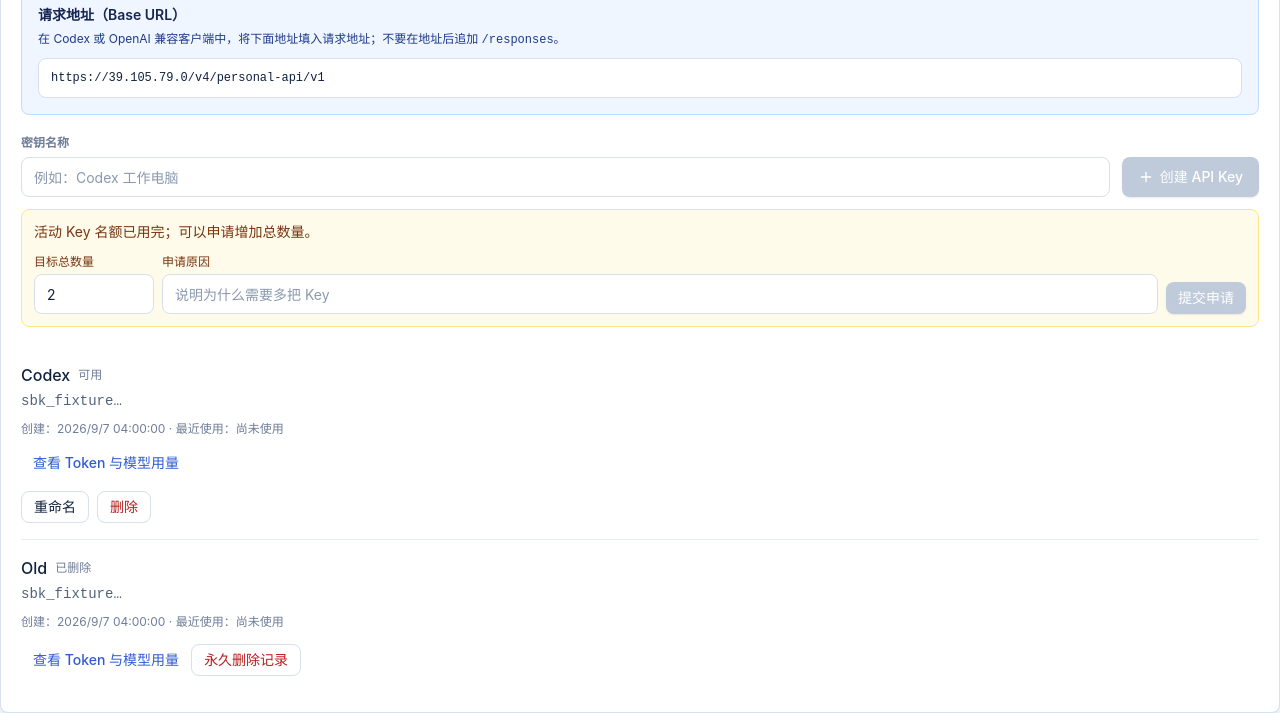
Test: PersonalApiKeys › removes only revoked list records after inline confirmation and preserves failures
(page scrolled)
Expected: the text "Old" is shown, x1=21 y1=556 x2=47 y2=580
Click the button with aria-label "永久删除 Old": (246, 660) x1=191 y1=644 x2=301 y2=676
(page scrolled)
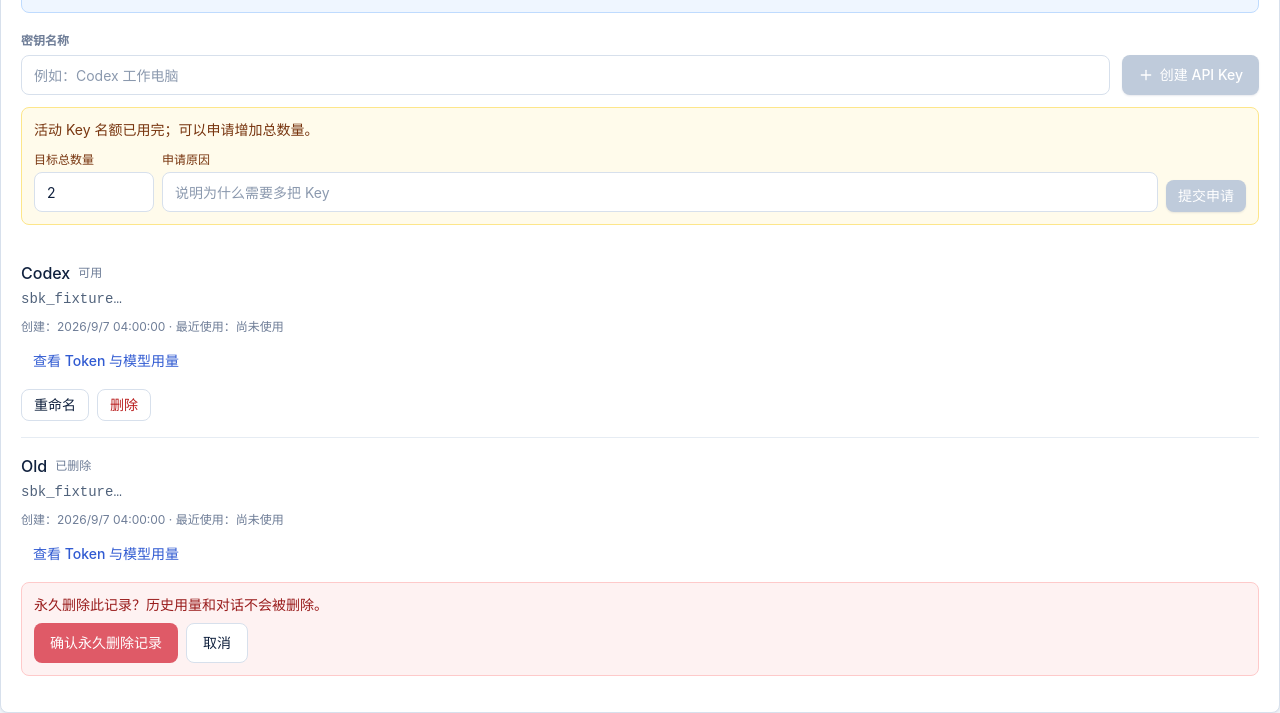
Click the button "确认永久删除记录": (106, 643) x1=34 y1=623 x2=178 y2=663
(page scrolled)
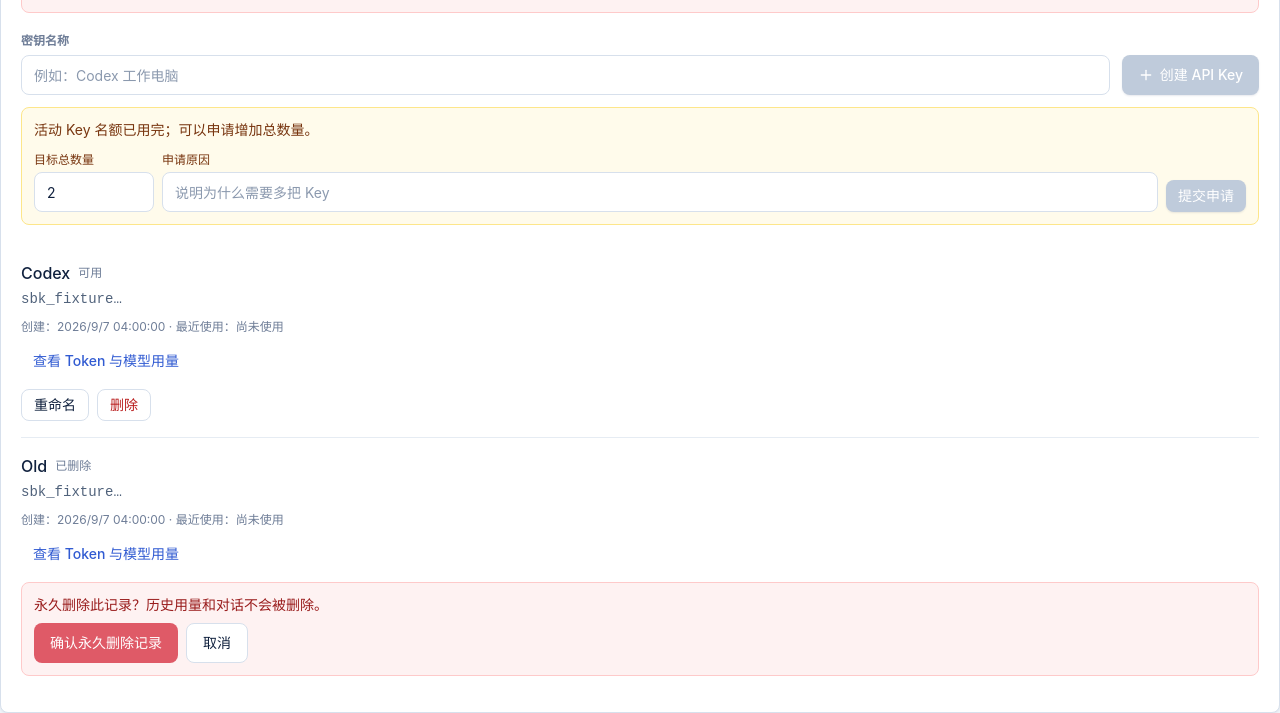
Expected: the text "Old" is shown, x1=21 y1=454 x2=47 y2=478
Click the button "确认永久删除记录": (106, 643) x1=34 y1=623 x2=178 y2=663
(page scrolled)
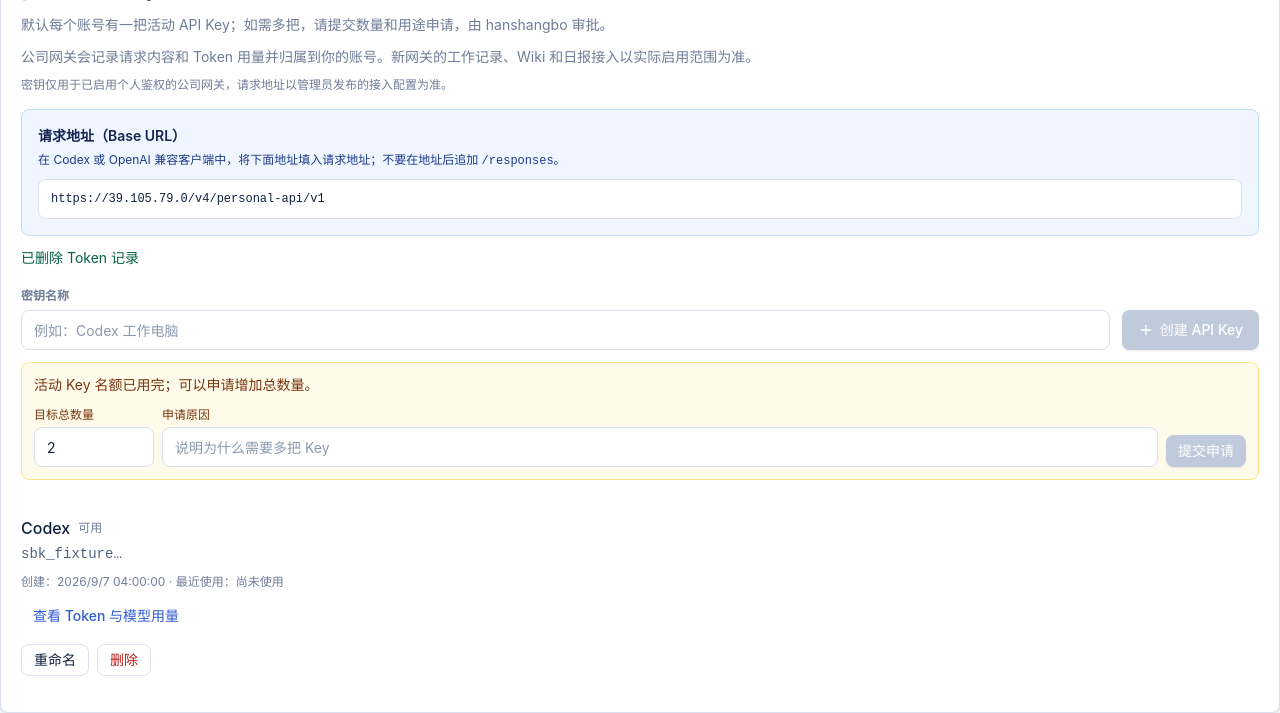
Expected: the text "Codex" is shown, x1=21 y1=516 x2=70 y2=540
Result: the text "Old" is gone
